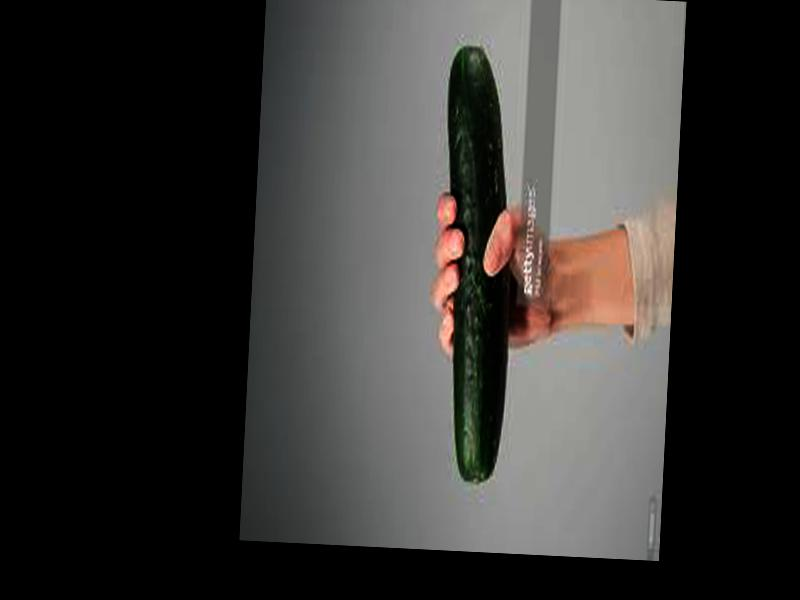Cucumber: (429, 45, 522, 476)
